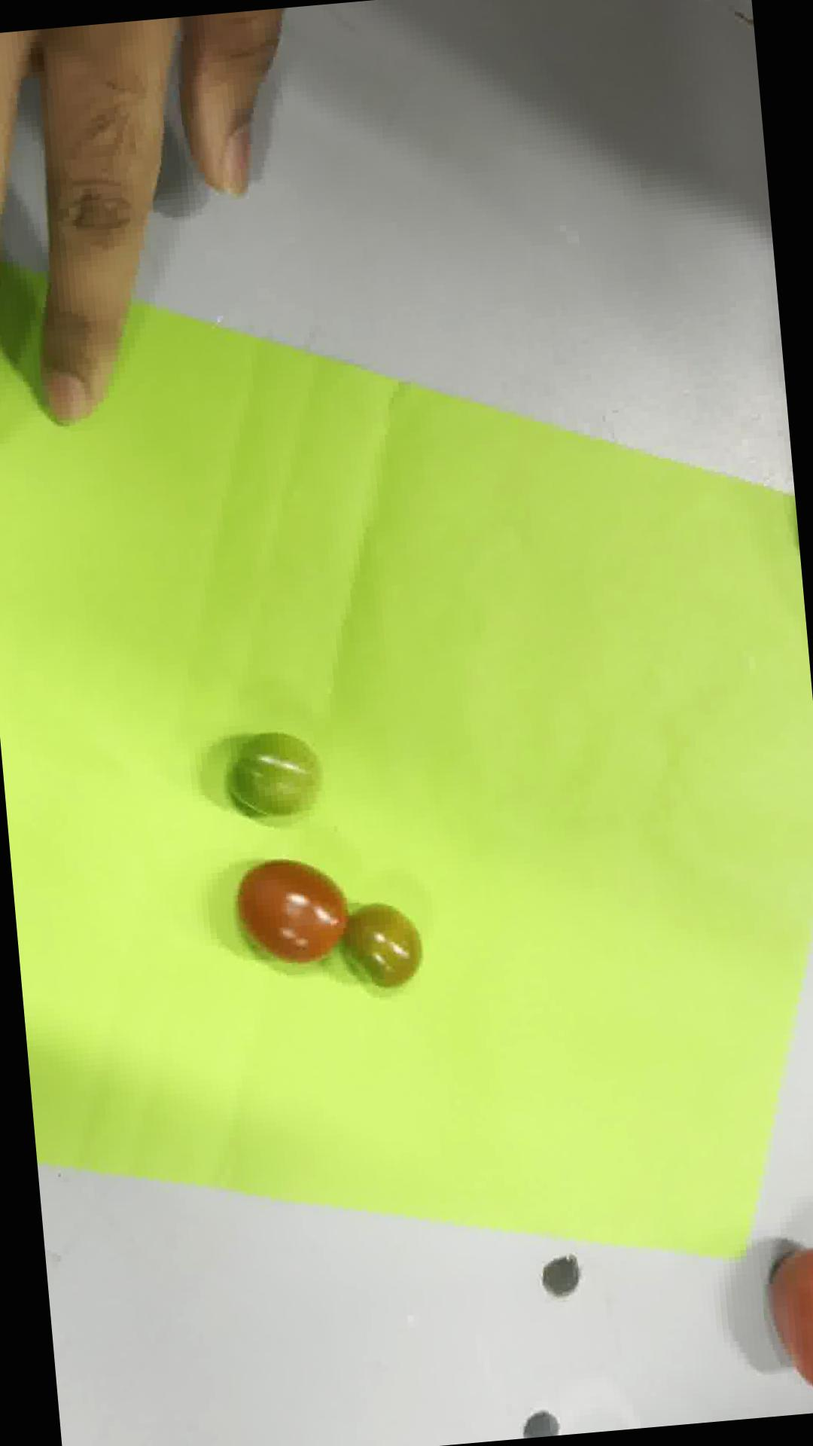green_cherry_tomato: (228, 733, 319, 817)
red_cherry_tomato: (236, 860, 348, 963)
yellow_cherry_tomato: (343, 903, 421, 988)
